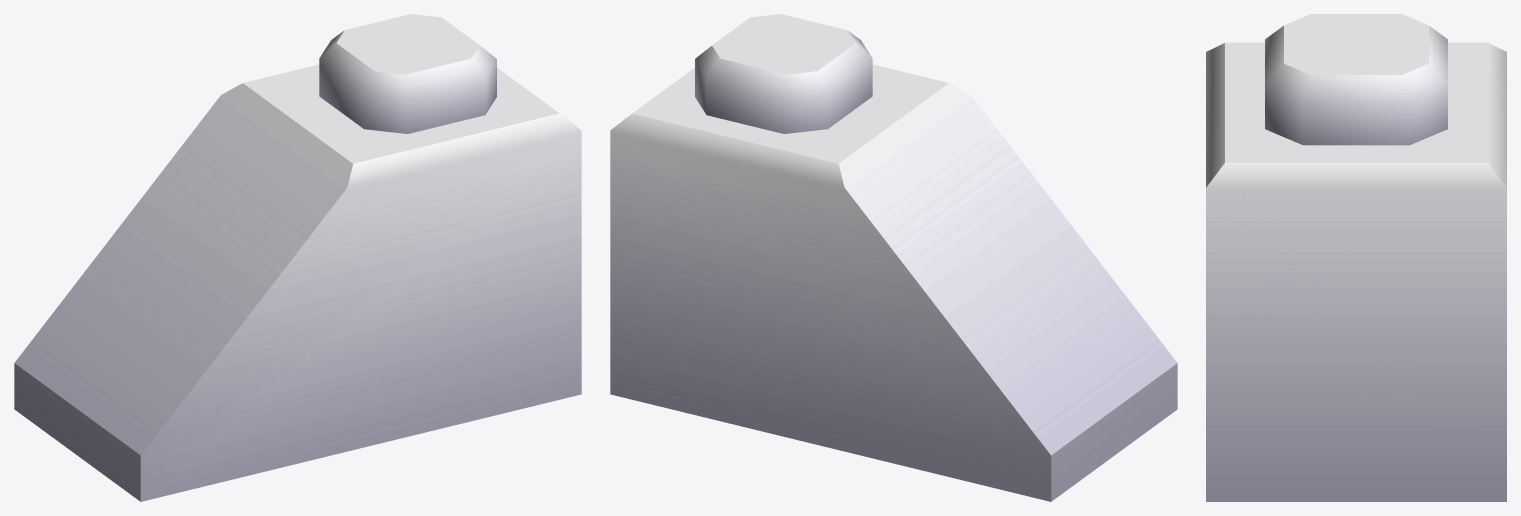
Rendered from bevel-hq-brick-slope-1x2.glb.
3 views of the same model, side by side, from view 1: azimuth 30°, elevation 25°; view 2: azimuth 150°, elevation 25°; view 3: azimuth 270°, elevation 25° (orthographic). The views are drawn at different scales.
Visible parts, largest first — view 1: bevel-hq-brick-slope-1x2; view 2: bevel-hq-brick-slope-1x2; view 3: bevel-hq-brick-slope-1x2.
Boxes of the visible parts, <box> form: bevel-hq-brick-slope-1x2: <box>14,14,581,501</box>; bevel-hq-brick-slope-1x2: <box>610,14,1177,501</box>; bevel-hq-brick-slope-1x2: <box>1206,14,1506,501</box>.
Size of the model in its own units: 0.795 by 0.57 by 0.395.
1 material, 1 textured.
